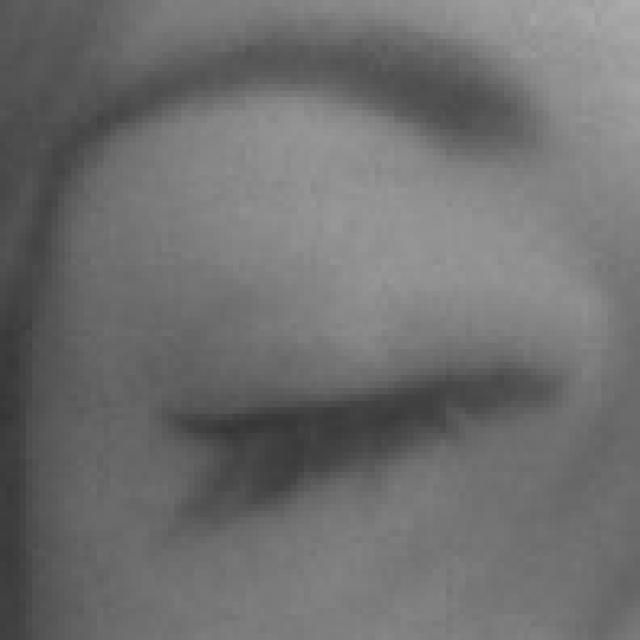close: (32, 18, 640, 601)
